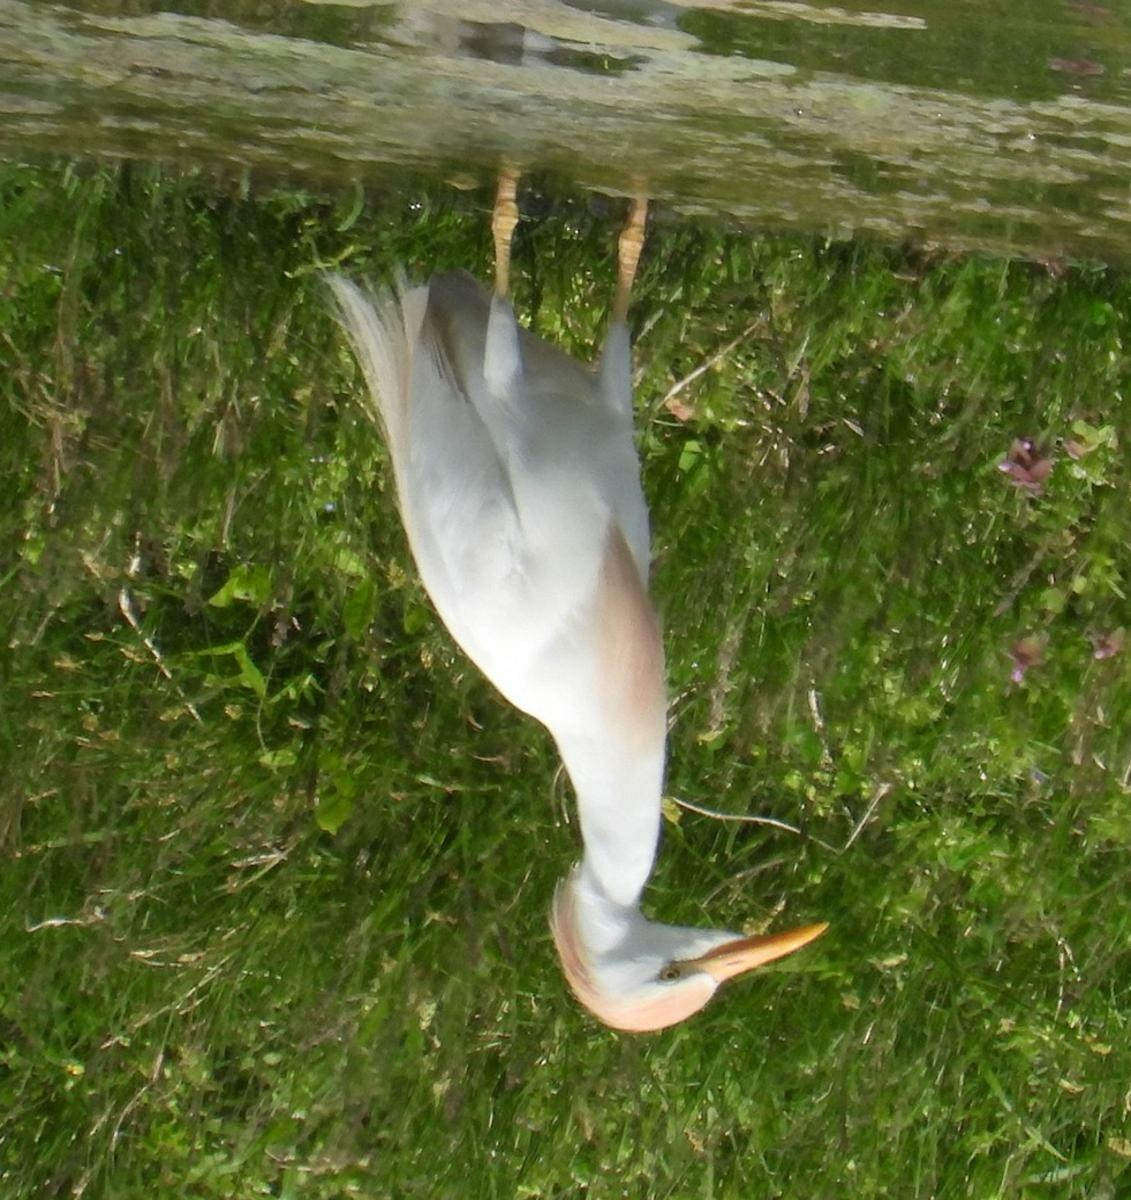egret: (350, 149, 837, 1053)
